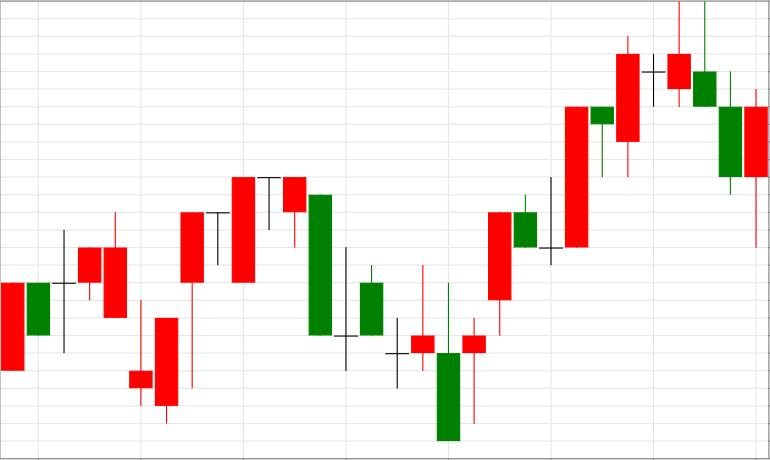shooting_star_fall: (462, 1, 691, 424)
